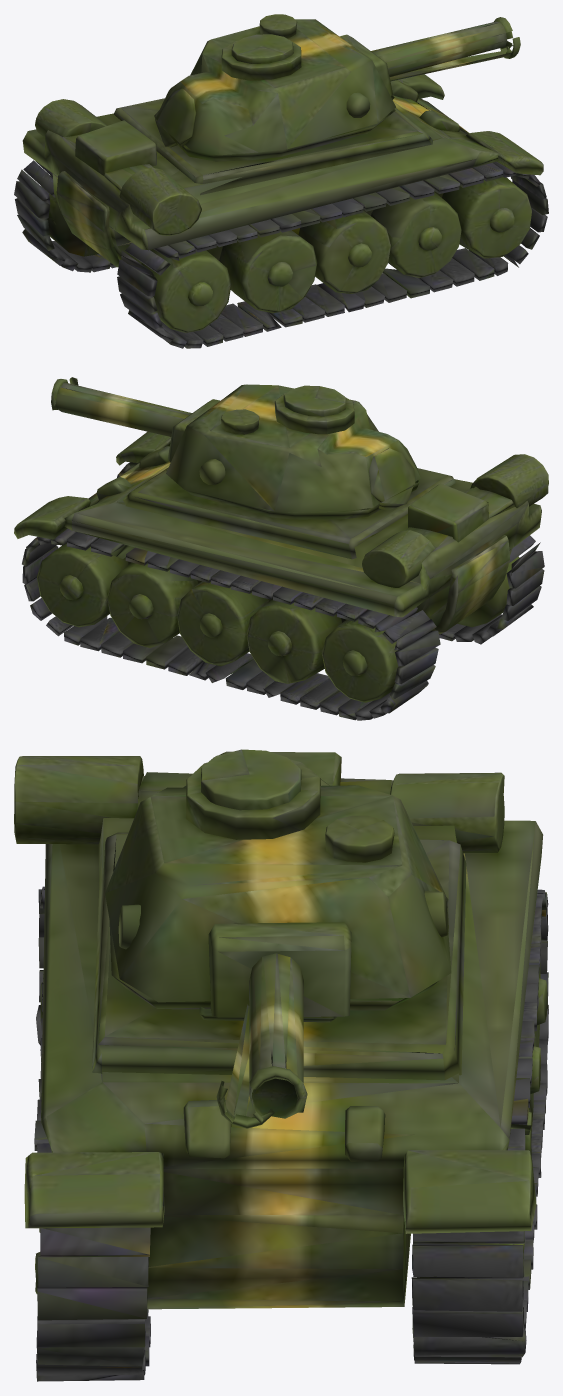
Rendered from brawler.glb.
3 renders of one model, top to bottom at view 1: azimuth 30°, elevation 25°; view 2: azimuth 150°, elevation 25°; view 3: azimuth 270°, elevation 25°, orthographic. The views are drawn at different scales.
Visible parts, largest first — view 1: hull, turret; view 2: hull, turret; view 3: hull, turret.
Boxes of the visible parts, box(x1,y1,x2,y2) form: hull: box(14, 37, 548, 348); turret: box(155, 14, 512, 155); hull: box(14, 377, 548, 720); turret: box(51, 379, 420, 512); hull: box(14, 751, 548, 1381); turret: box(105, 749, 451, 1123).
Size of the model in its own units: 0.9951 by 0.5212 by 0.58.
Materials: 1 (1 with a texture image).
